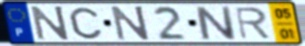2: (152, 5, 188, 42)
C: (67, 6, 104, 40)
N: (193, 5, 240, 41), (109, 5, 152, 42), (29, 5, 72, 42)
R: (233, 6, 273, 41)
